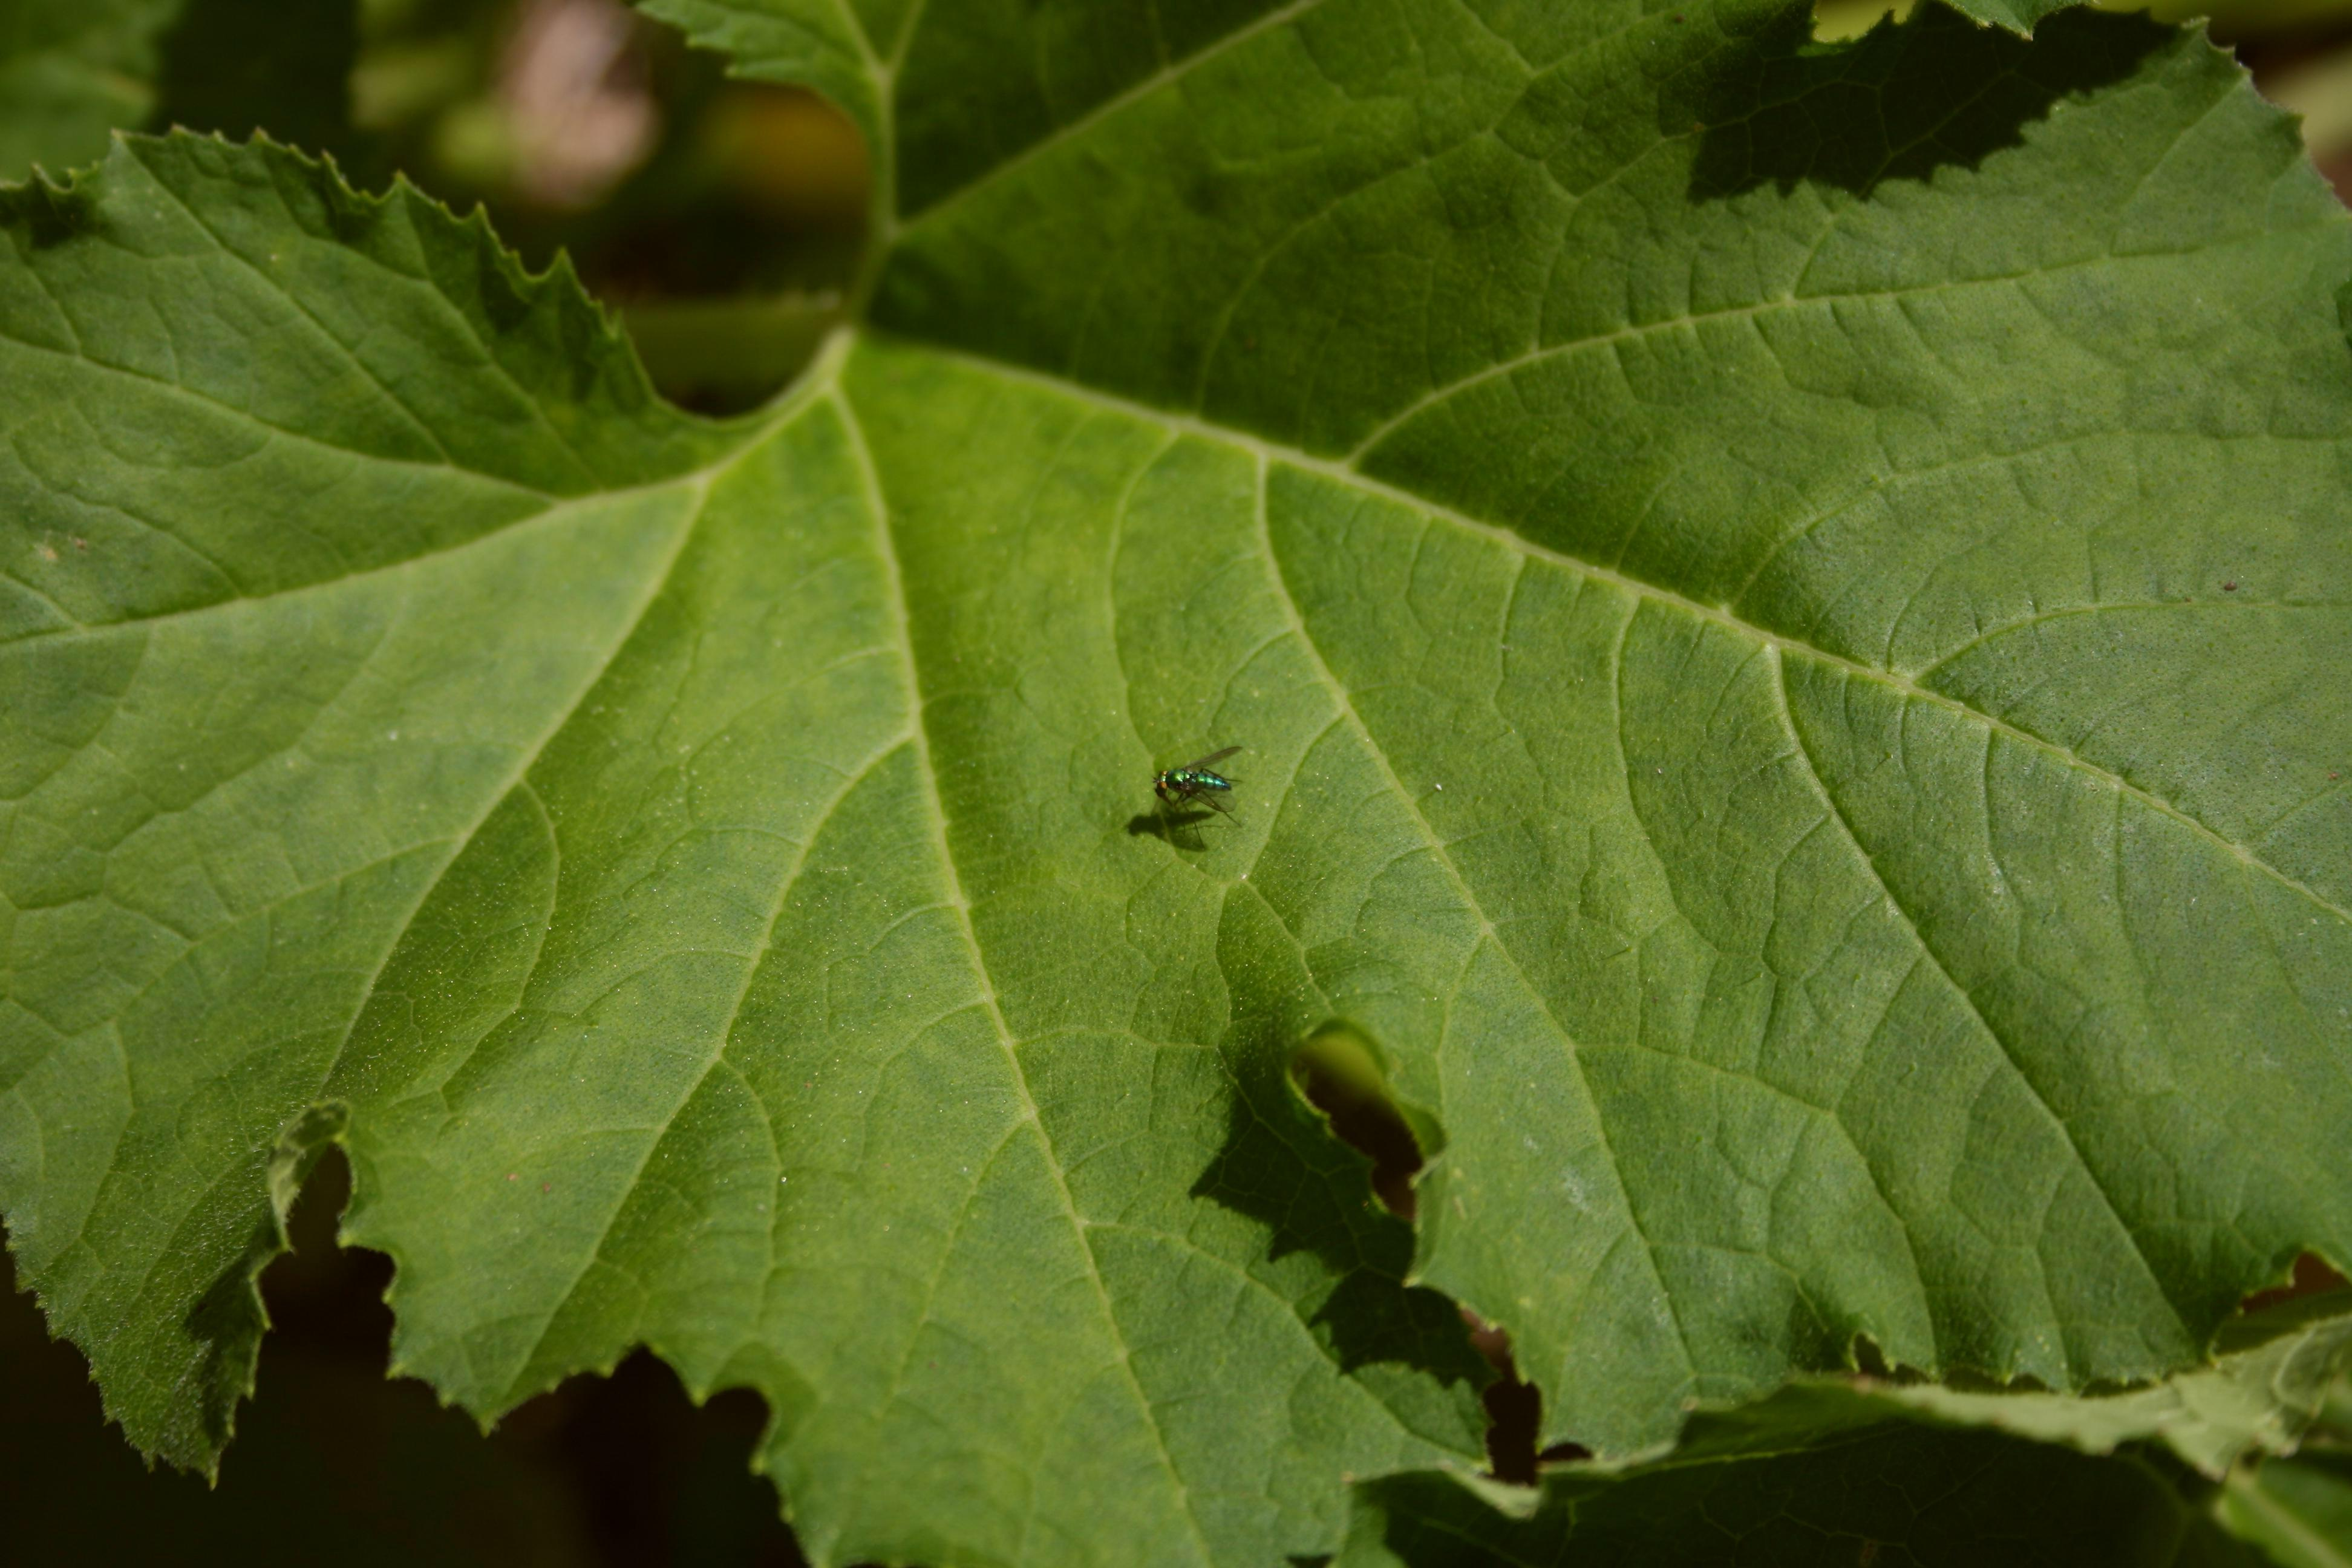Tomato leaf: (50, 52, 2351, 1470)
